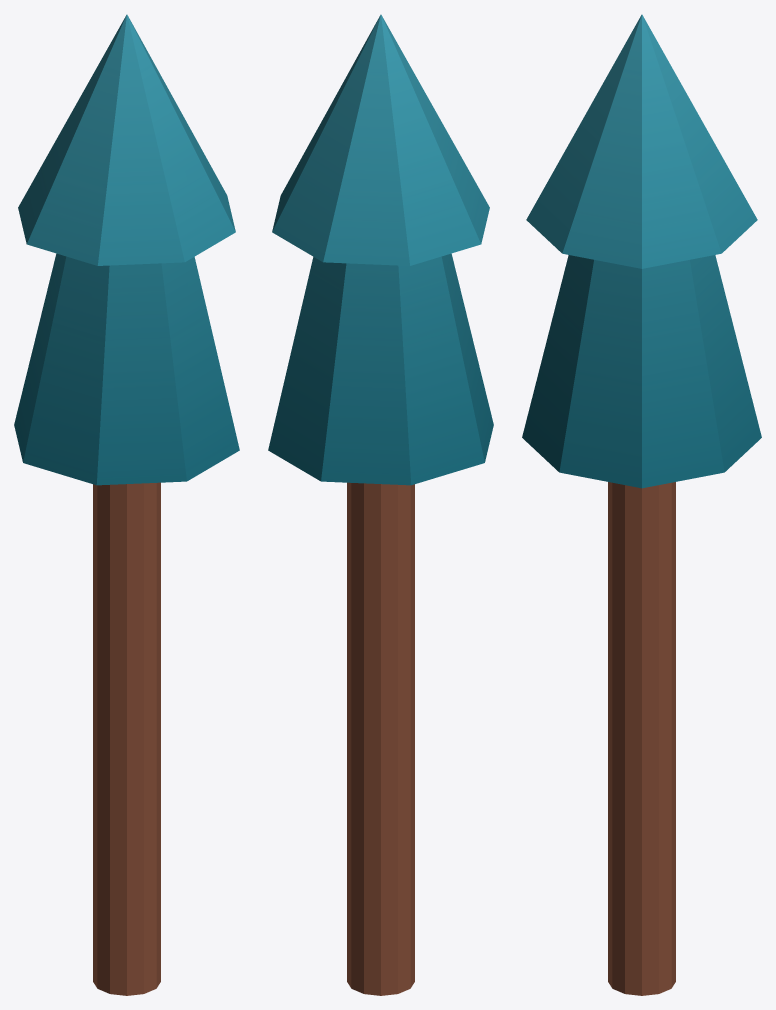
The model's file is Tree_21_gradient_blue.fbx.
3 renders of one model, left to right at view 1: azimuth 30°, elevation 25°; view 2: azimuth 150°, elevation 25°; view 3: azimuth 270°, elevation 25°, orthographic.
Parts seen in each view (by area): view 1: Tree_21_gradient_blue; view 2: Tree_21_gradient_blue; view 3: Tree_21_gradient_blue.
Boxes of the visible parts, <box> form: Tree_21_gradient_blue: <box>14,14,239,995</box>; Tree_21_gradient_blue: <box>268,14,493,995</box>; Tree_21_gradient_blue: <box>522,14,761,995</box>.
Bounding box in the file's own units: 77.92 × 347 × 77.92.
